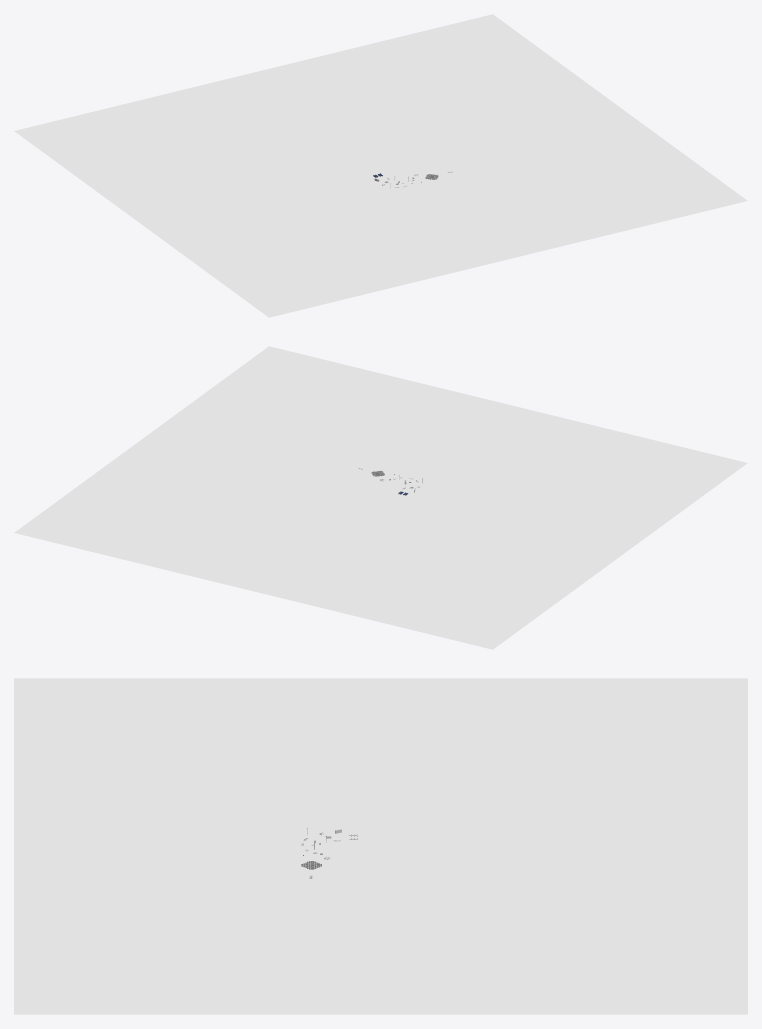
Rendered from nuclear_staffing_noHumans.glb.
3 renders of one model, top to bottom at view 1: azimuth 30°, elevation 25°; view 2: azimuth 150°, elevation 25°; view 3: azimuth 270°, elevation 25°, orthographic. The views are drawn at different scales.
Parts seen in each view (by area): view 1: floor; view 2: floor; view 3: floor.
Part boxes in pixels (<box>): floor: <box>14,14,747,317</box>; floor: <box>14,346,747,649</box>; floor: <box>14,678,747,1014</box>.
Bounding box in the file's own units: 969 × 10.1 × 894.
31 materials, 14 textured.
